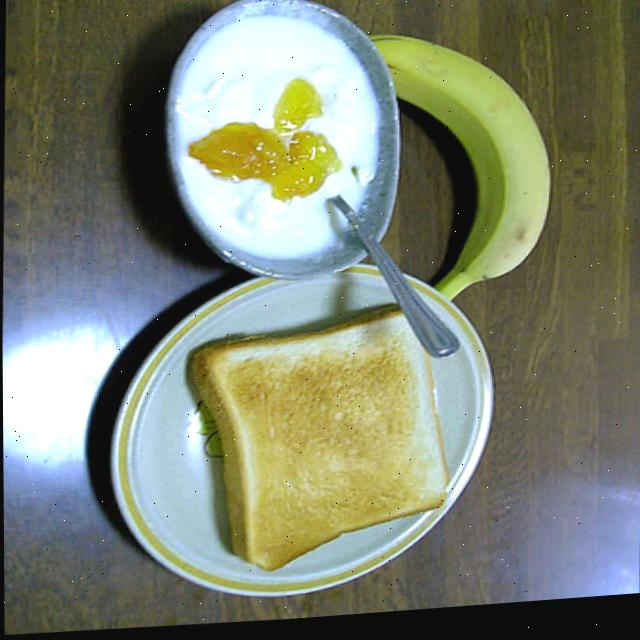面包点心: (186, 311, 443, 572)
